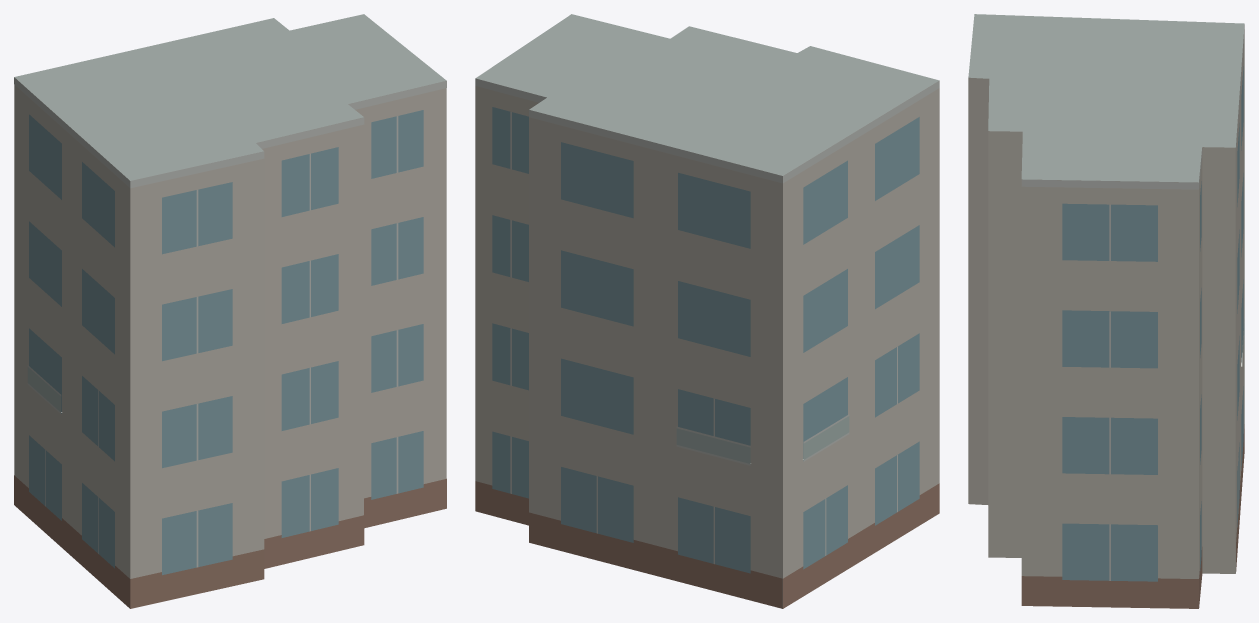
Rendered from survey-upis-32591166.glb.
The picture shows the model from 3 angles, left to right: view 1: azimuth 30°, elevation 25°; view 2: azimuth 150°, elevation 25°; view 3: azimuth 270°, elevation 25°; orthographic projection.
Visible parts, largest first — view 1: survey-upis-32591166.tmp; view 2: survey-upis-32591166.tmp; view 3: survey-upis-32591166.tmp.
Boxes of the visible parts, bbox=[...] form: survey-upis-32591166.tmp: bbox=[14, 14, 446, 608]; survey-upis-32591166.tmp: bbox=[475, 14, 939, 608]; survey-upis-32591166.tmp: bbox=[968, 14, 1244, 608].
Bounding box in the file's own units: 12.04 × 14.2 × 8.35.
